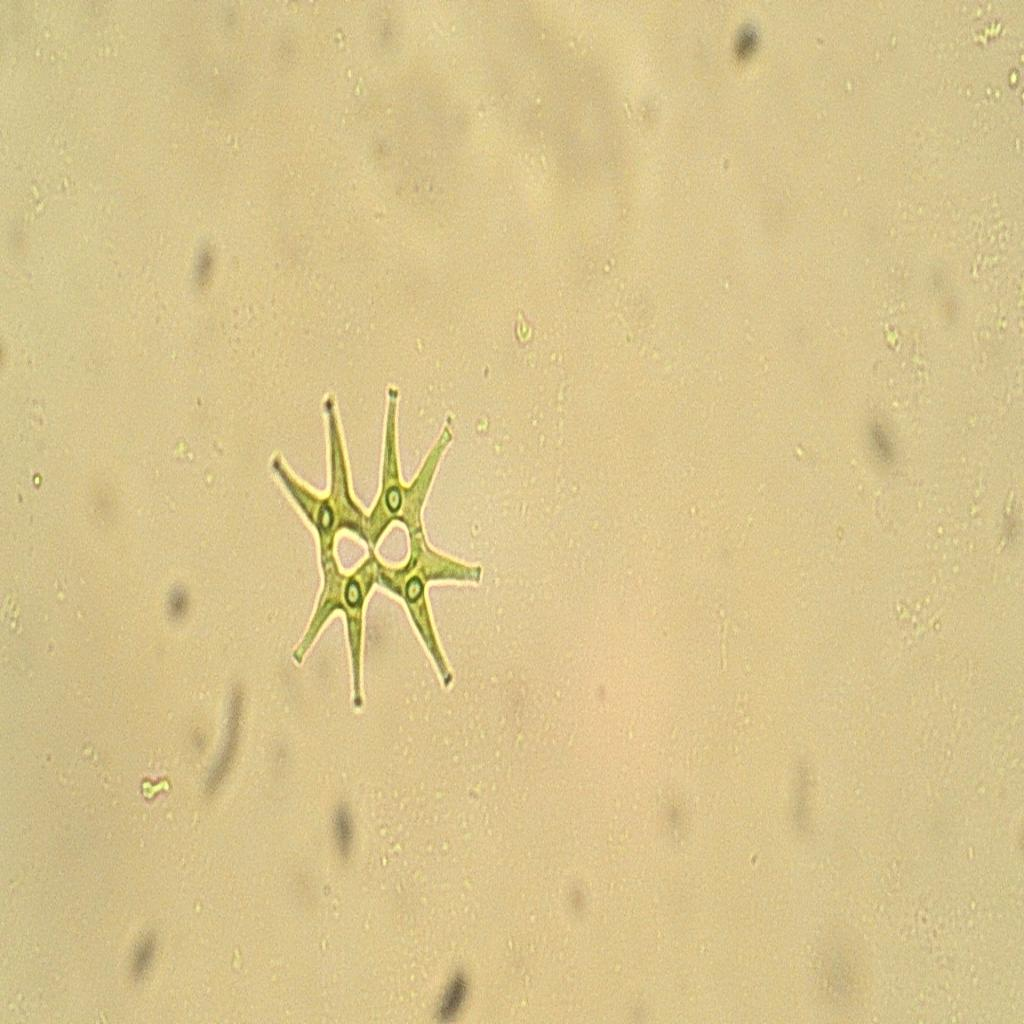Pediastrum_CF: (247, 355, 506, 735)
